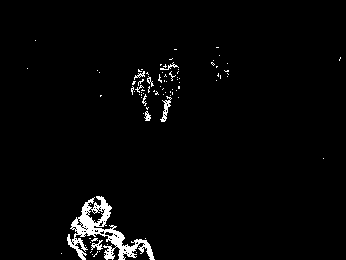person: (64, 191, 153, 260), (156, 57, 181, 124), (129, 65, 157, 124)
